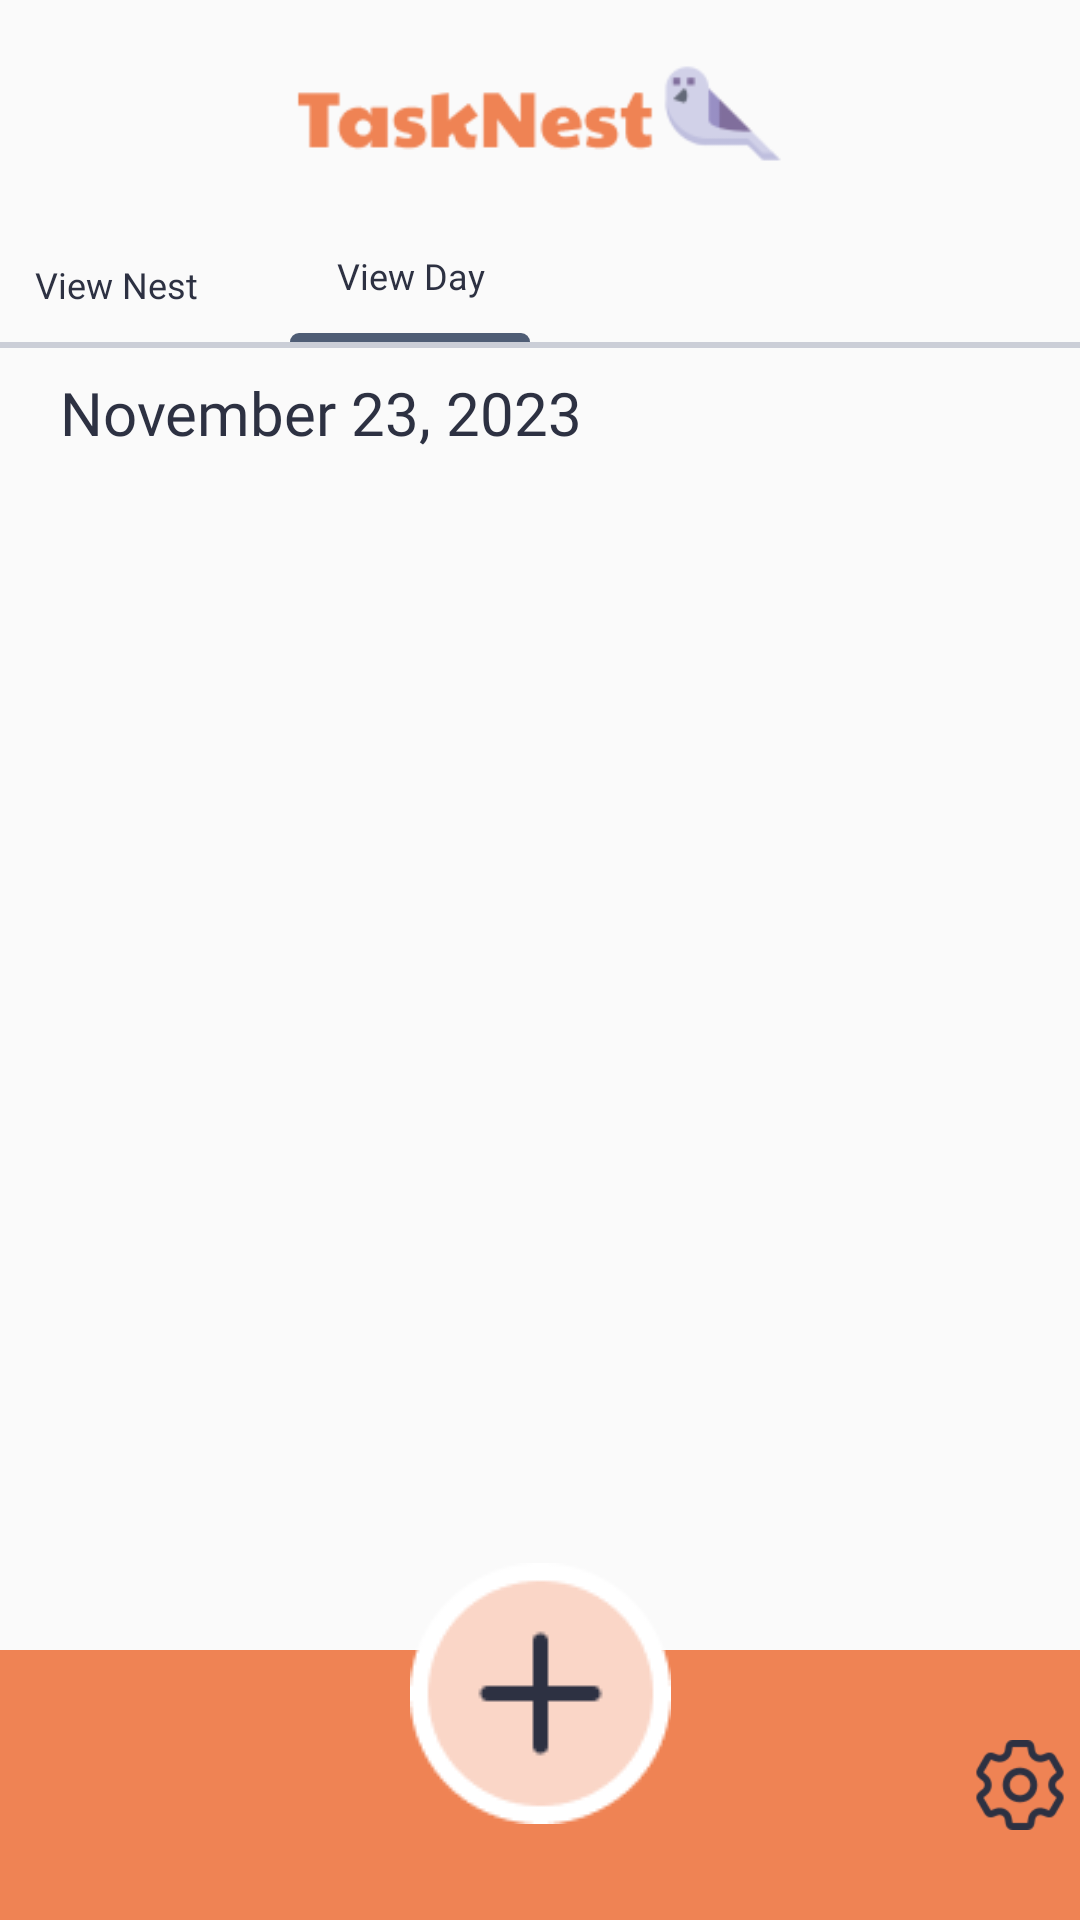

Named icons in this screenshot (1080w x 1920h) and their centers, [x,y]:
add task: [540,1693]
settings: [1020,1785]
